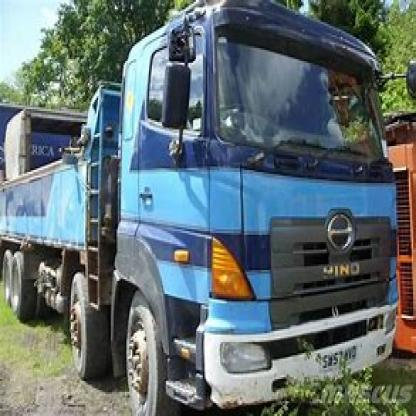dump_truck: (7, 15, 405, 414)
